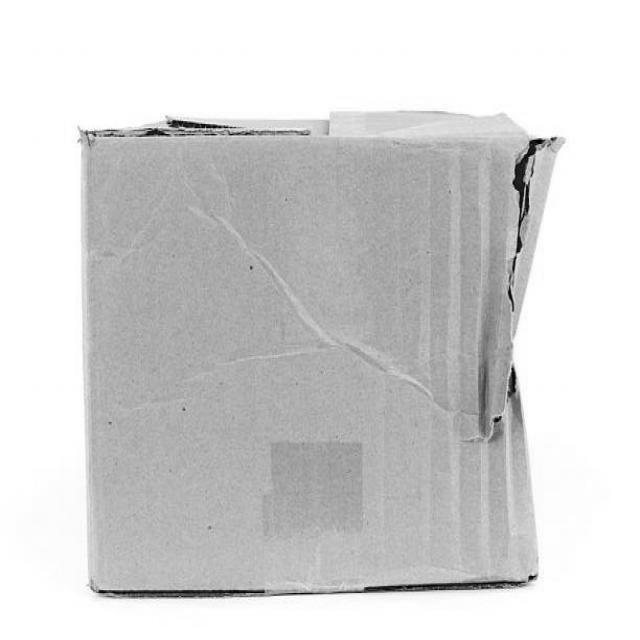hole: (503, 138, 557, 309), (486, 362, 520, 445)
